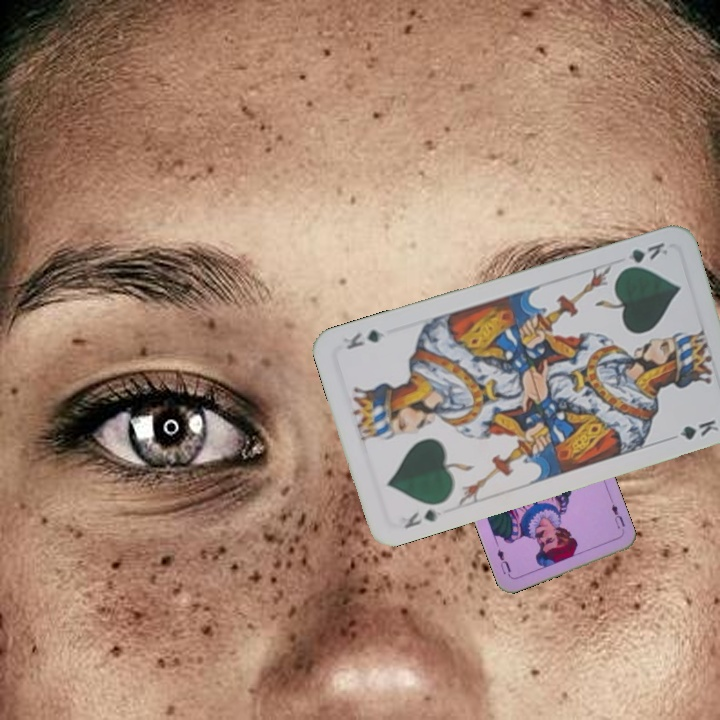EU: (607, 500, 628, 535)
GK: (616, 238, 671, 273), (400, 505, 444, 532)
